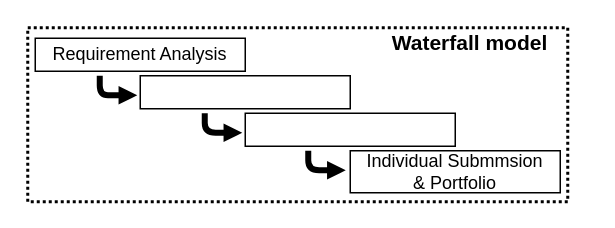
The diagram is 615 pixels wide and 228 high, and some of its shapes have lost their labels. Each missing label, with the centre of its shape:
Demo Documentation: (349,129)
Design Review: (244,91)
